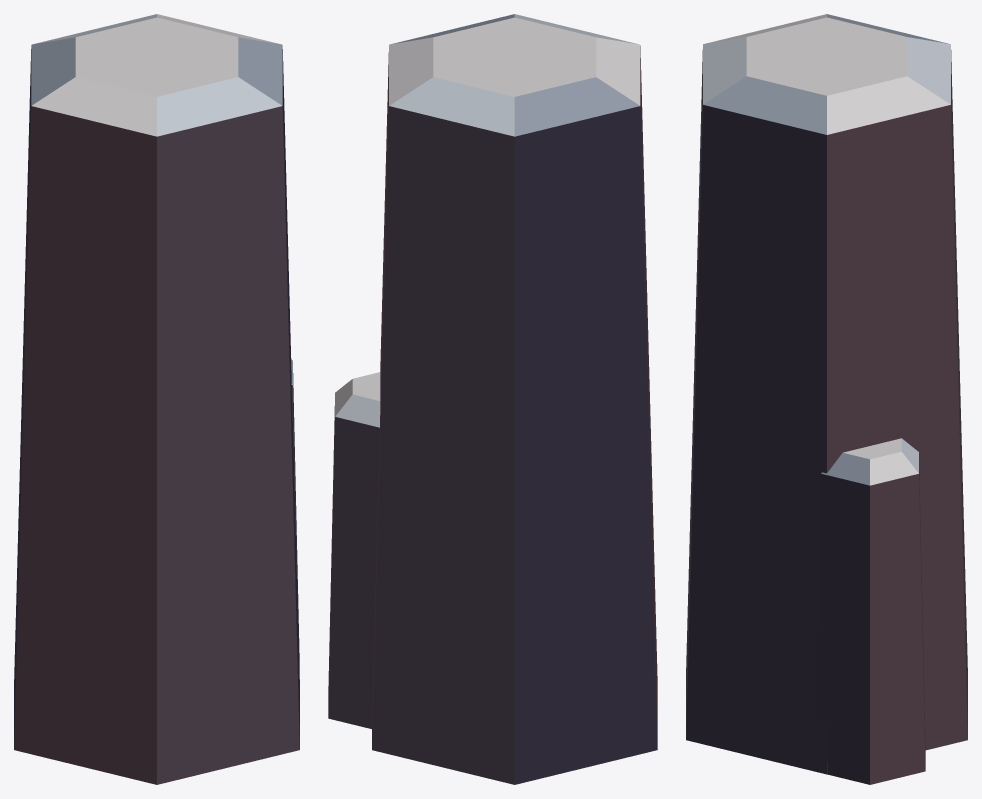
Rendered from basalt-column.glb.
3 views of the same model, side by side, from view 1: azimuth 30°, elevation 25°; view 2: azimuth 150°, elevation 25°; view 3: azimuth 270°, elevation 25° (orthographic).
Visible parts, largest first — view 1: basalt-column; view 2: basalt-column; view 3: basalt-column.
Boxes of the visible parts, left/top/right/bottom form: basalt-column: left=14, top=14, right=299, bottom=784; basalt-column: left=328, top=14, right=657, bottom=784; basalt-column: left=686, top=14, right=967, bottom=784.
Size of the model in its own units: 2.84 by 5.81 by 2.29.
